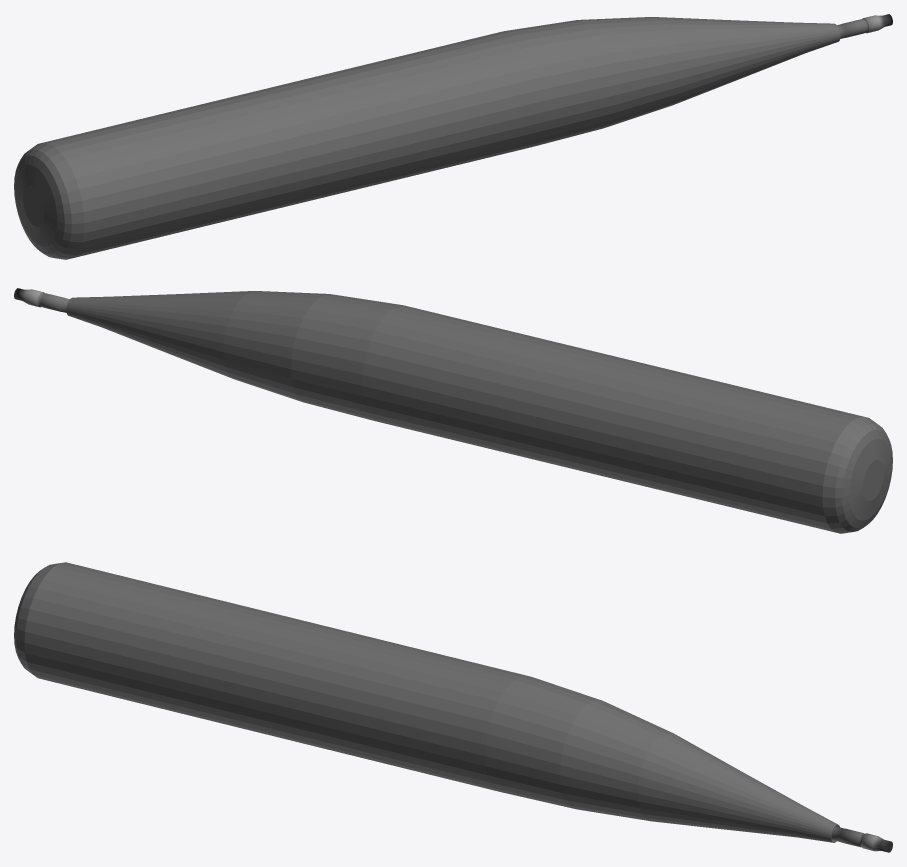
Rendered from m20dgp1.glb.
3 views of the same model, one above another, from view 1: azimuth 30°, elevation 25°; view 2: azimuth 150°, elevation 25°; view 3: azimuth 330°, elevation 25° (orthographic).
Visible parts, largest first — view 1: 円柱.094; view 2: 円柱.094; view 3: 円柱.094.
Part boxes in pixels (x1,y1,x2,y2): 円柱.094: (14, 14, 892, 259); 円柱.094: (14, 288, 892, 533); 円柱.094: (14, 562, 892, 852).
Bounding box in the file's own units: 3.29 × 0.402 × 0.3987.
Materials: 2 (1 with a texture image).
